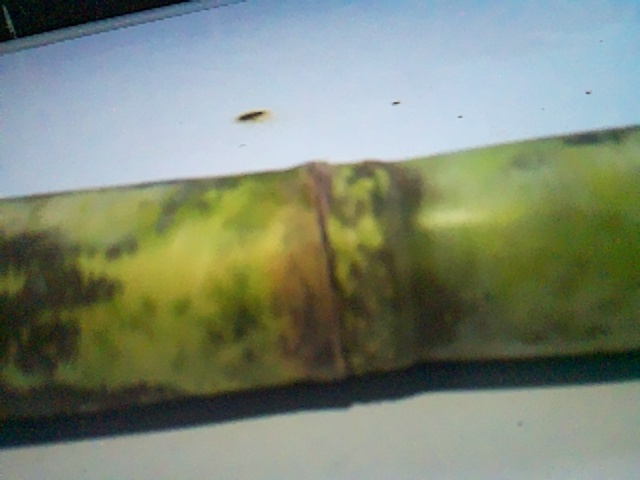Good Sugarcane: (0, 120, 635, 427)
Node: (275, 162, 440, 377)
